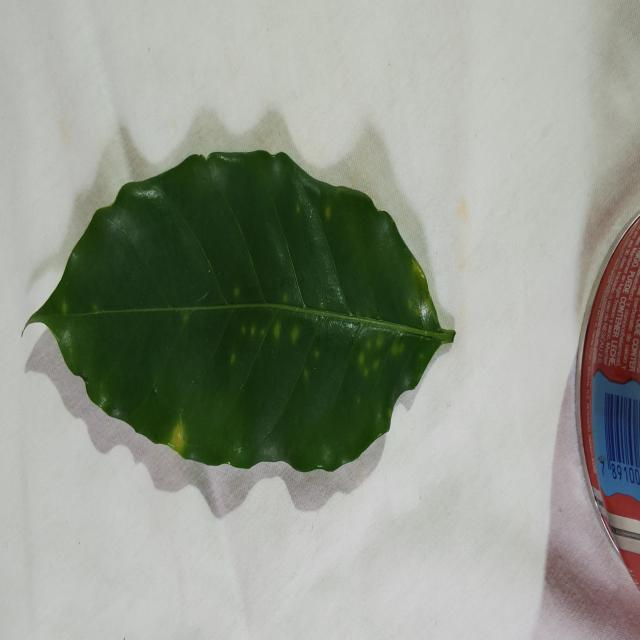Enfermedad-Roya: (28, 149, 455, 477)
